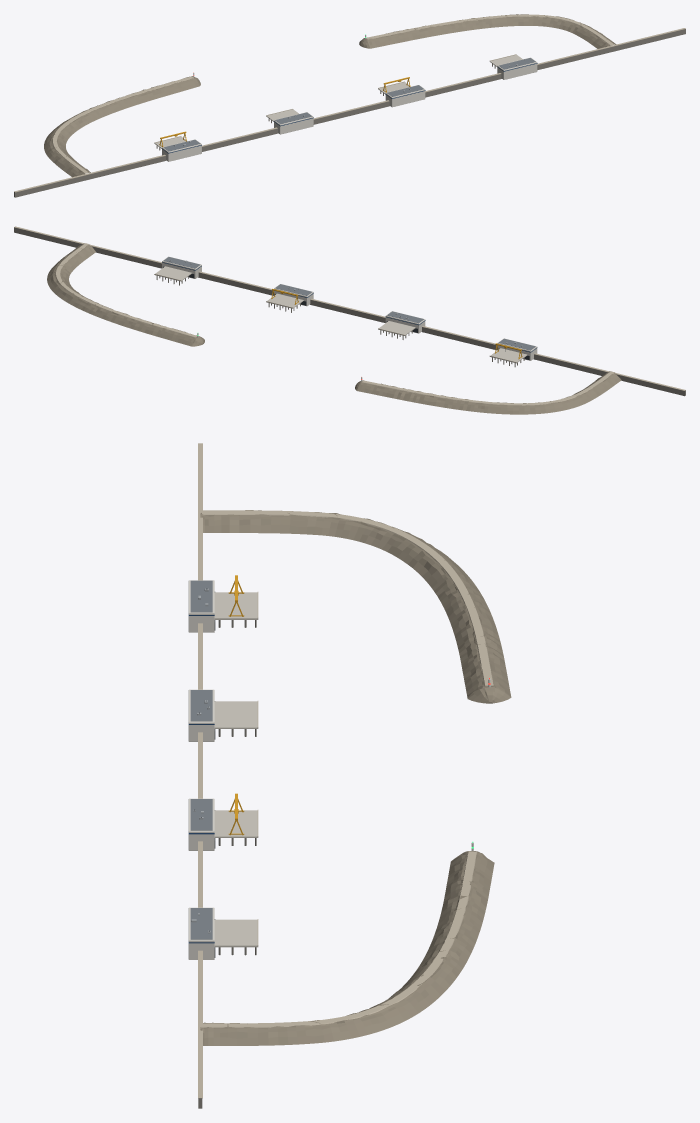
The model's file is cooling-infrastructure.glb.
3 renders of one model, top to bottom at view 1: azimuth 30°, elevation 25°; view 2: azimuth 150°, elevation 25°; view 3: azimuth 270°, elevation 25°, orthographic. The views are drawn at different scales.
Parts seen in each view (by area): view 1: marine__rock, marine__concrete_dark, marine__concrete_warm, marine__concrete_white, marine__roof_dark, marine__concrete_light; view 2: marine__rock, marine__concrete_dark, marine__concrete_warm, marine__concrete_light, marine__concrete_white, marine__roof_dark; view 3: marine__rock, marine__concrete_warm, marine__concrete_light, marine__roof_dark, marine__concrete_white.
Part boxes in pixels (box(x1,y1,x2,y2)): marine__rock: box(44, 14, 616, 177); marine__concrete_dark: box(14, 29, 685, 197); marine__concrete_warm: box(14, 14, 685, 192); marine__concrete_white: box(162, 57, 537, 161); marine__roof_dark: box(163, 58, 535, 151); marine__concrete_light: box(154, 54, 522, 148); marine__rock: box(47, 243, 621, 414); marine__concrete_dark: box(14, 227, 685, 396); marine__concrete_warm: box(14, 226, 685, 405); marine__concrete_light: box(154, 266, 527, 363); marine__concrete_white: box(162, 256, 537, 360); marine__roof_dark: box(163, 257, 535, 350); marine__rock: box(200, 510, 511, 1045); marine__concrete_warm: box(198, 443, 493, 1098); marine__concrete_light: box(214, 592, 258, 947); marine__roof_dark: box(190, 580, 212, 939); marine__concrete_white: box(188, 580, 214, 959).
Bounding box in the file's own units: 1200 × 25.5 × 250.
